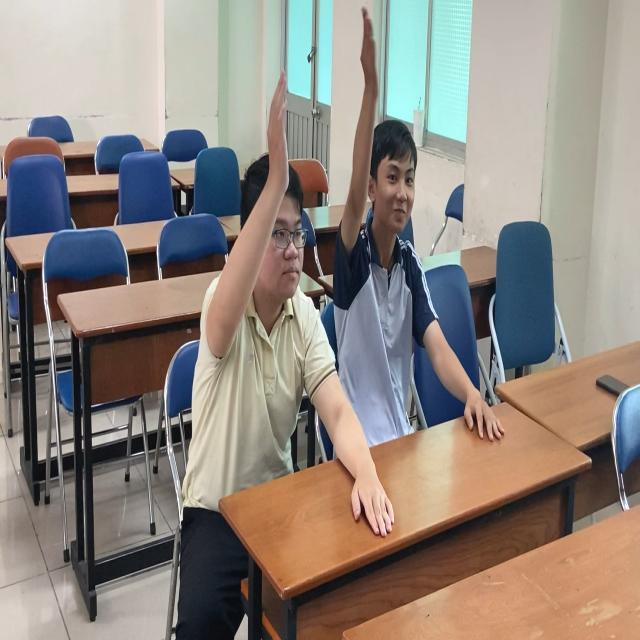raise_hand: (192, 71, 330, 502), (334, 1, 458, 450)
